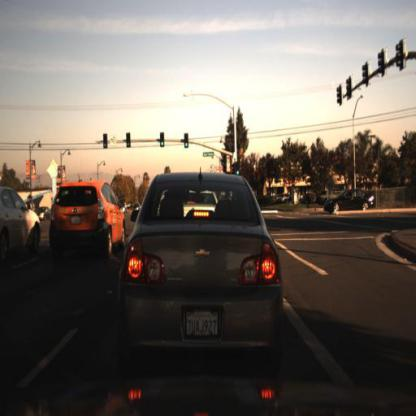car: (110, 165, 302, 363), (47, 169, 136, 281), (46, 178, 128, 261), (1, 171, 48, 271), (320, 183, 380, 223), (9, 186, 48, 224)
trafficLight: (160, 130, 168, 149)
trafficLight-Green: (180, 130, 194, 161), (234, 161, 242, 186), (158, 132, 166, 155), (235, 161, 243, 179)
trafficLight-GreenLeft: (101, 130, 111, 157), (125, 132, 133, 155), (103, 130, 111, 151)
trafficLight-Red: (183, 133, 190, 153)
